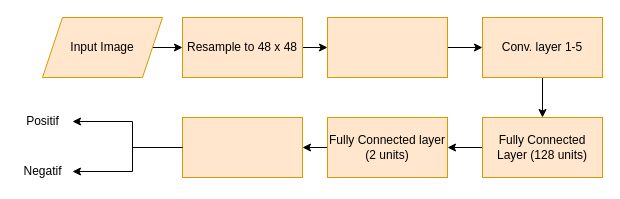
Image size: 620x199. Some labels were removed from this diagram. Each missing label, with the centre of its shape:
Preprocessing: (387,47)
Softmax layer: (242,147)
